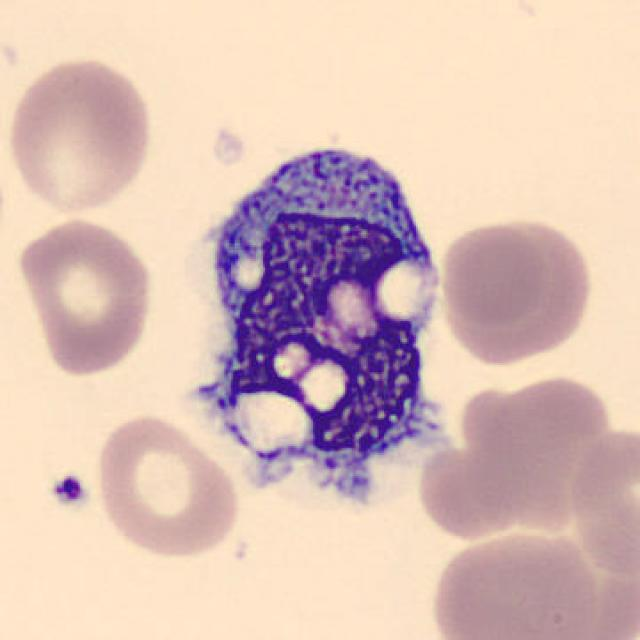Monocyte: (174, 117, 462, 528)
Platelets: (46, 469, 92, 513)
RBC: (2, 53, 158, 219), (13, 213, 158, 379), (446, 212, 596, 368), (90, 411, 244, 562), (483, 373, 607, 534), (427, 527, 602, 640), (438, 217, 550, 330), (563, 419, 640, 581)
